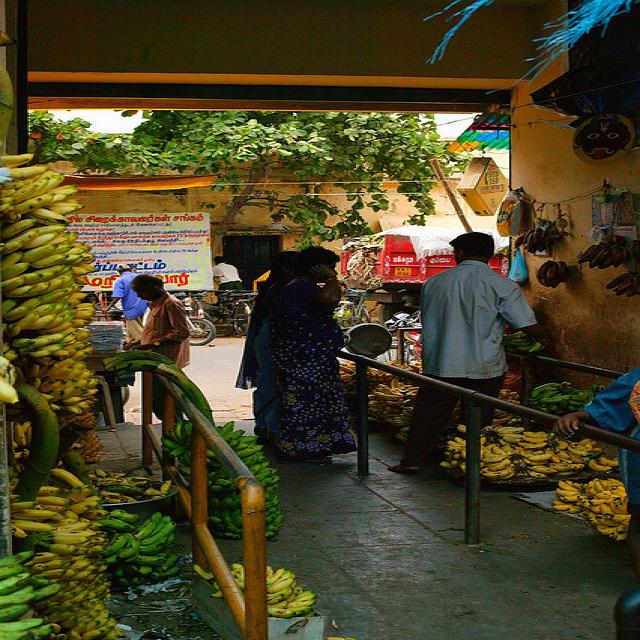motor: (179, 298, 218, 346)
